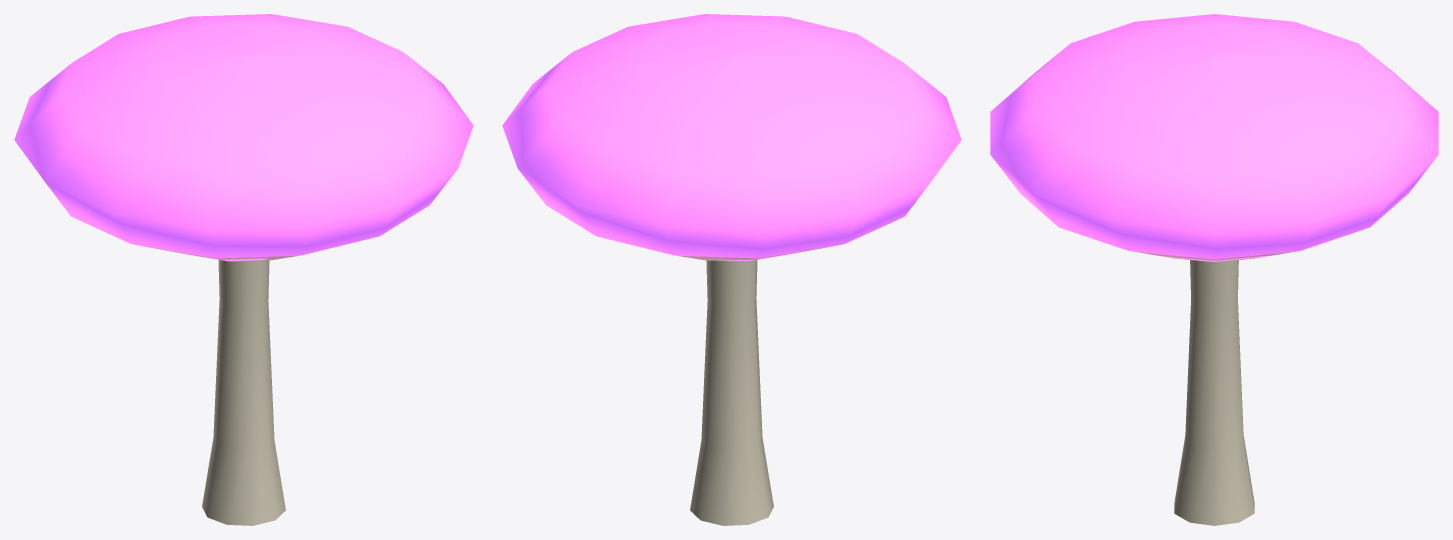
The model's file is mushroom_giant.glb.
3 views of the same model, side by side, from view 1: azimuth 30°, elevation 25°; view 2: azimuth 150°, elevation 25°; view 3: azimuth 270°, elevation 25° (orthographic).
Visible parts, largest first — view 1: mushroom_giant_m; view 2: mushroom_giant_m; view 3: mushroom_giant_m.
Boxes of the visible parts, left/top/right/bottom form: mushroom_giant_m: left=14, top=14, right=473, bottom=525; mushroom_giant_m: left=502, top=14, right=961, bottom=525; mushroom_giant_m: left=990, top=14, right=1438, bottom=525.
Bounding box in the file's own units: 6 × 6.5 × 5.85.
